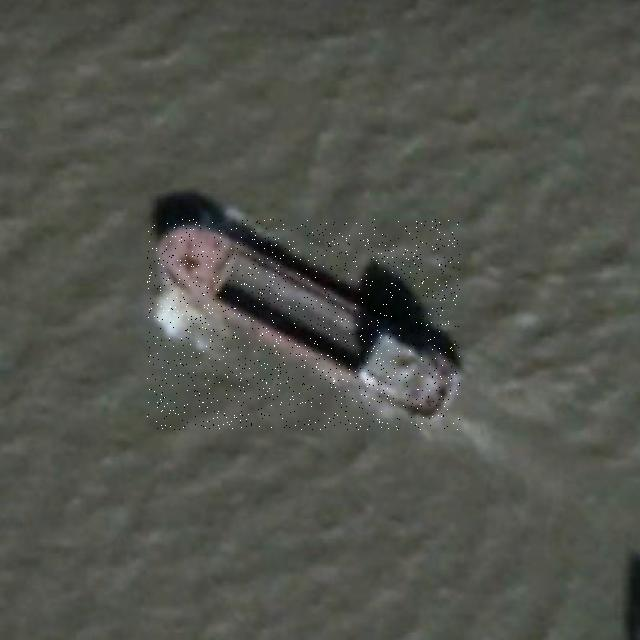boat: (147, 219, 460, 430)
